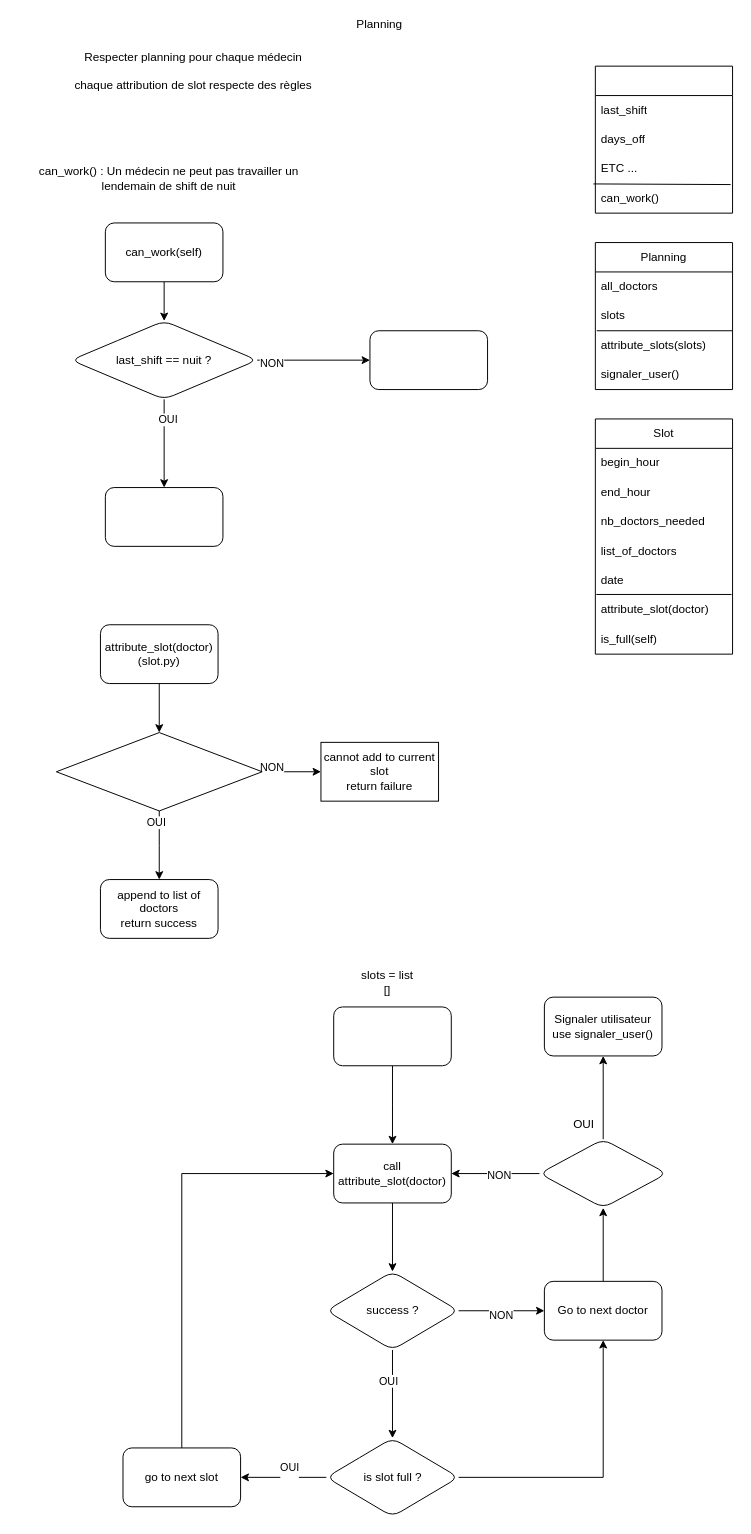
This 751x1534 diagram has some shape labels left out. Each missing label, with the box of its shape:
all_doctors empty ?: (539, 1138, 667, 1208)
attribute_slots(slots) (planning.py): (333, 1006, 451, 1066)
can_work(self) ?: (55, 732, 262, 811)
Doctor: (594, 65, 733, 213)
False: (369, 330, 488, 390)
True: (104, 487, 223, 546)
